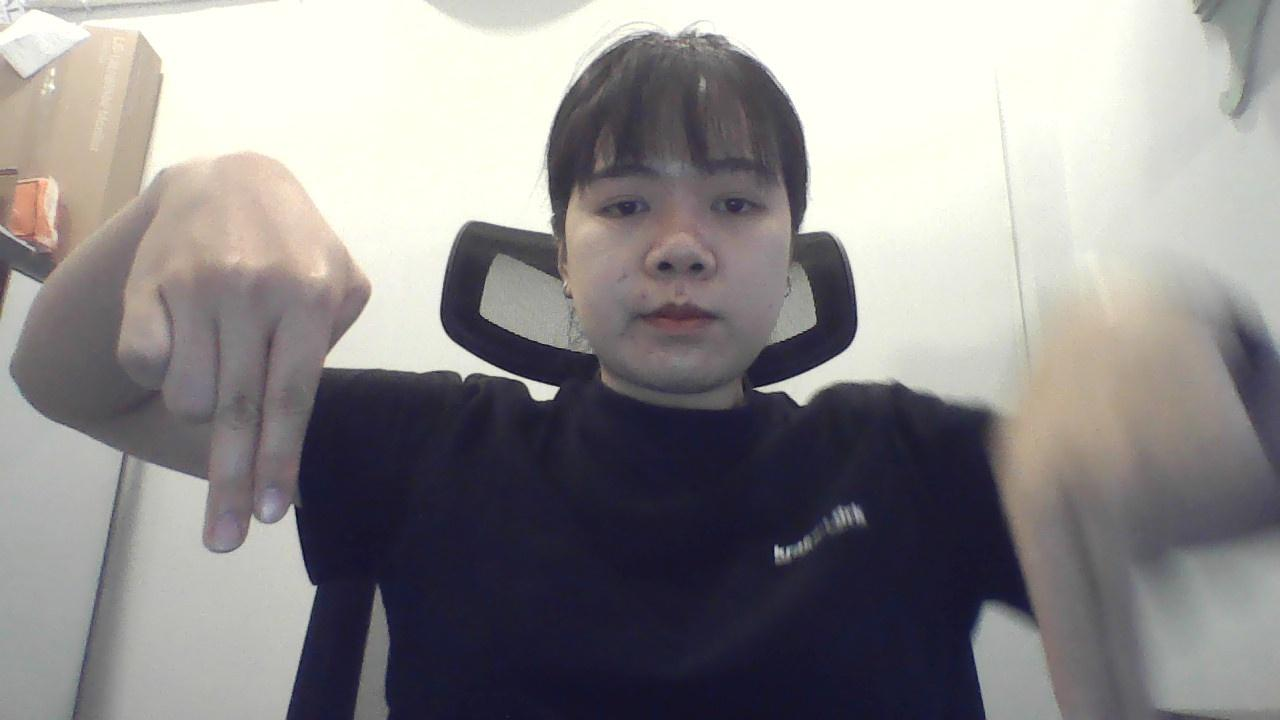N: (107, 152, 375, 567)
